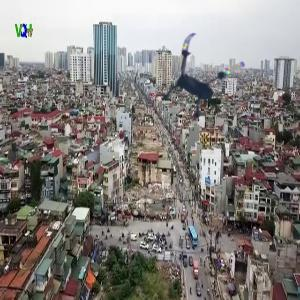drone: (153, 32, 252, 131)
